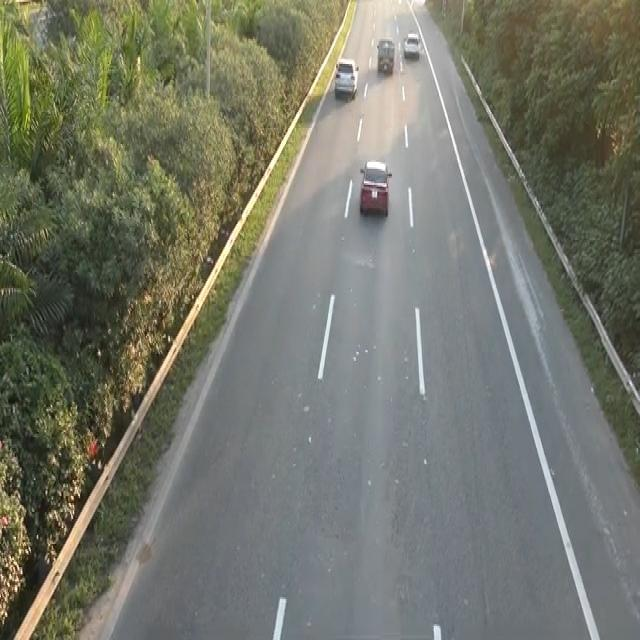bus: (356, 155, 394, 224), (333, 55, 359, 100), (402, 28, 421, 58)
minivan: (375, 35, 395, 73)
